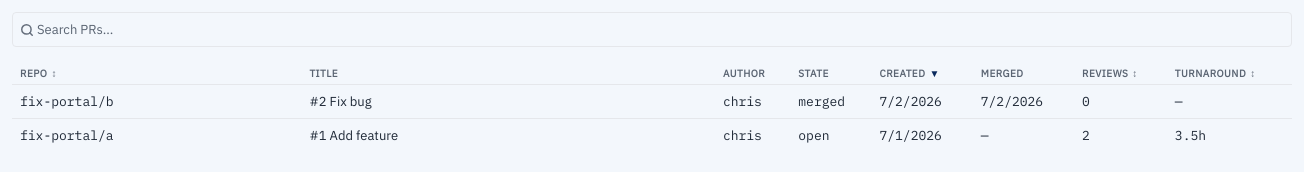
Test: GitHubPrTable › filters by search query
Type "bug" into the field named "Search pull requests" at (652, 30), box [12, 12, 1292, 47]
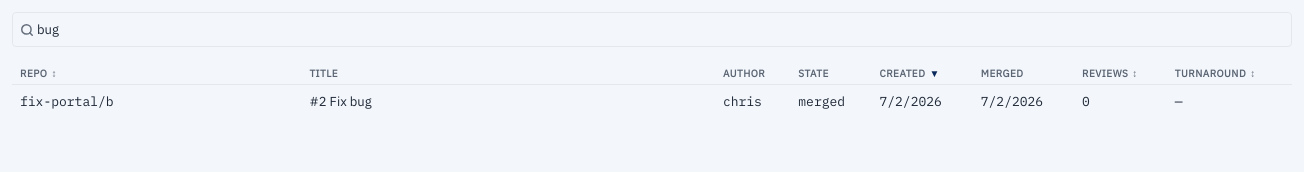
Expected: the text "#2 Fix bug" is shown, [301, 84, 715, 118]
Expected: the text "Add feature" is gone
